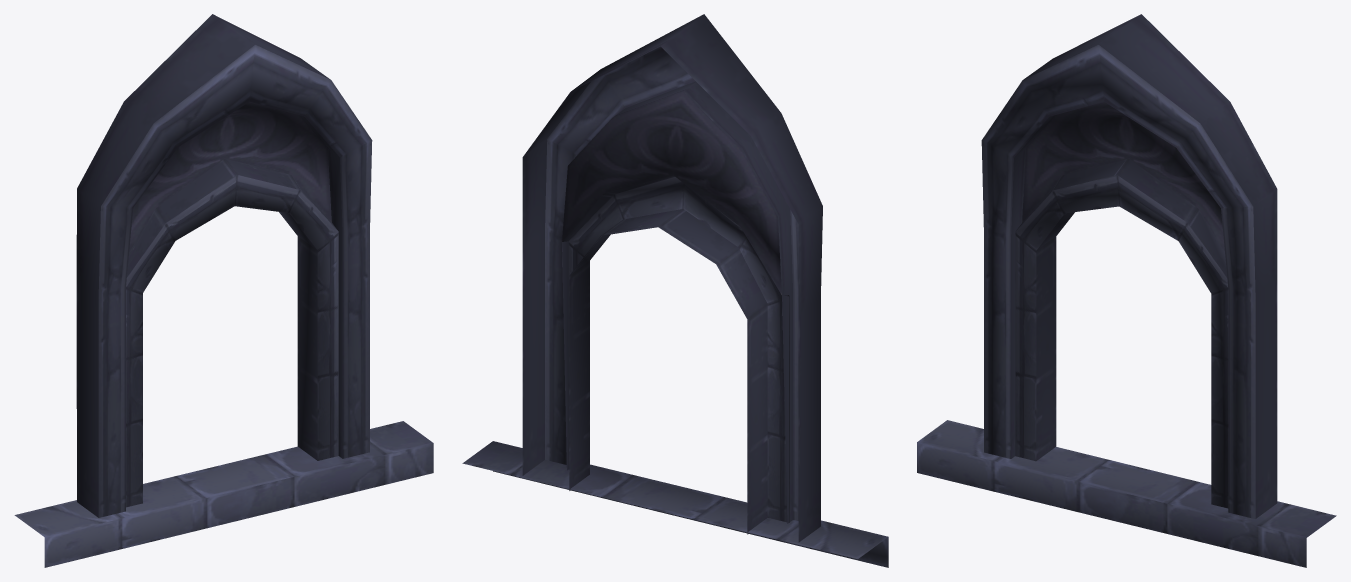
The model's file is sn_chengbao_window_001.FBX.
The picture shows the model from 3 angles, left to right: view 1: azimuth 30°, elevation 25°; view 2: azimuth 150°, elevation 25°; view 3: azimuth 330°, elevation 25°; orthographic projection.
Visible parts, largest first — view 1: sn_chengbao_window_001; view 2: sn_chengbao_window_001; view 3: sn_chengbao_window_001.
Boxes of the visible parts, x1,y1,x2,y2 form: sn_chengbao_window_001: (14,14,433,567); sn_chengbao_window_001: (462,14,888,567); sn_chengbao_window_001: (917,14,1336,567).
Bounding box in the file's own units: 821 × 165 × 980.
